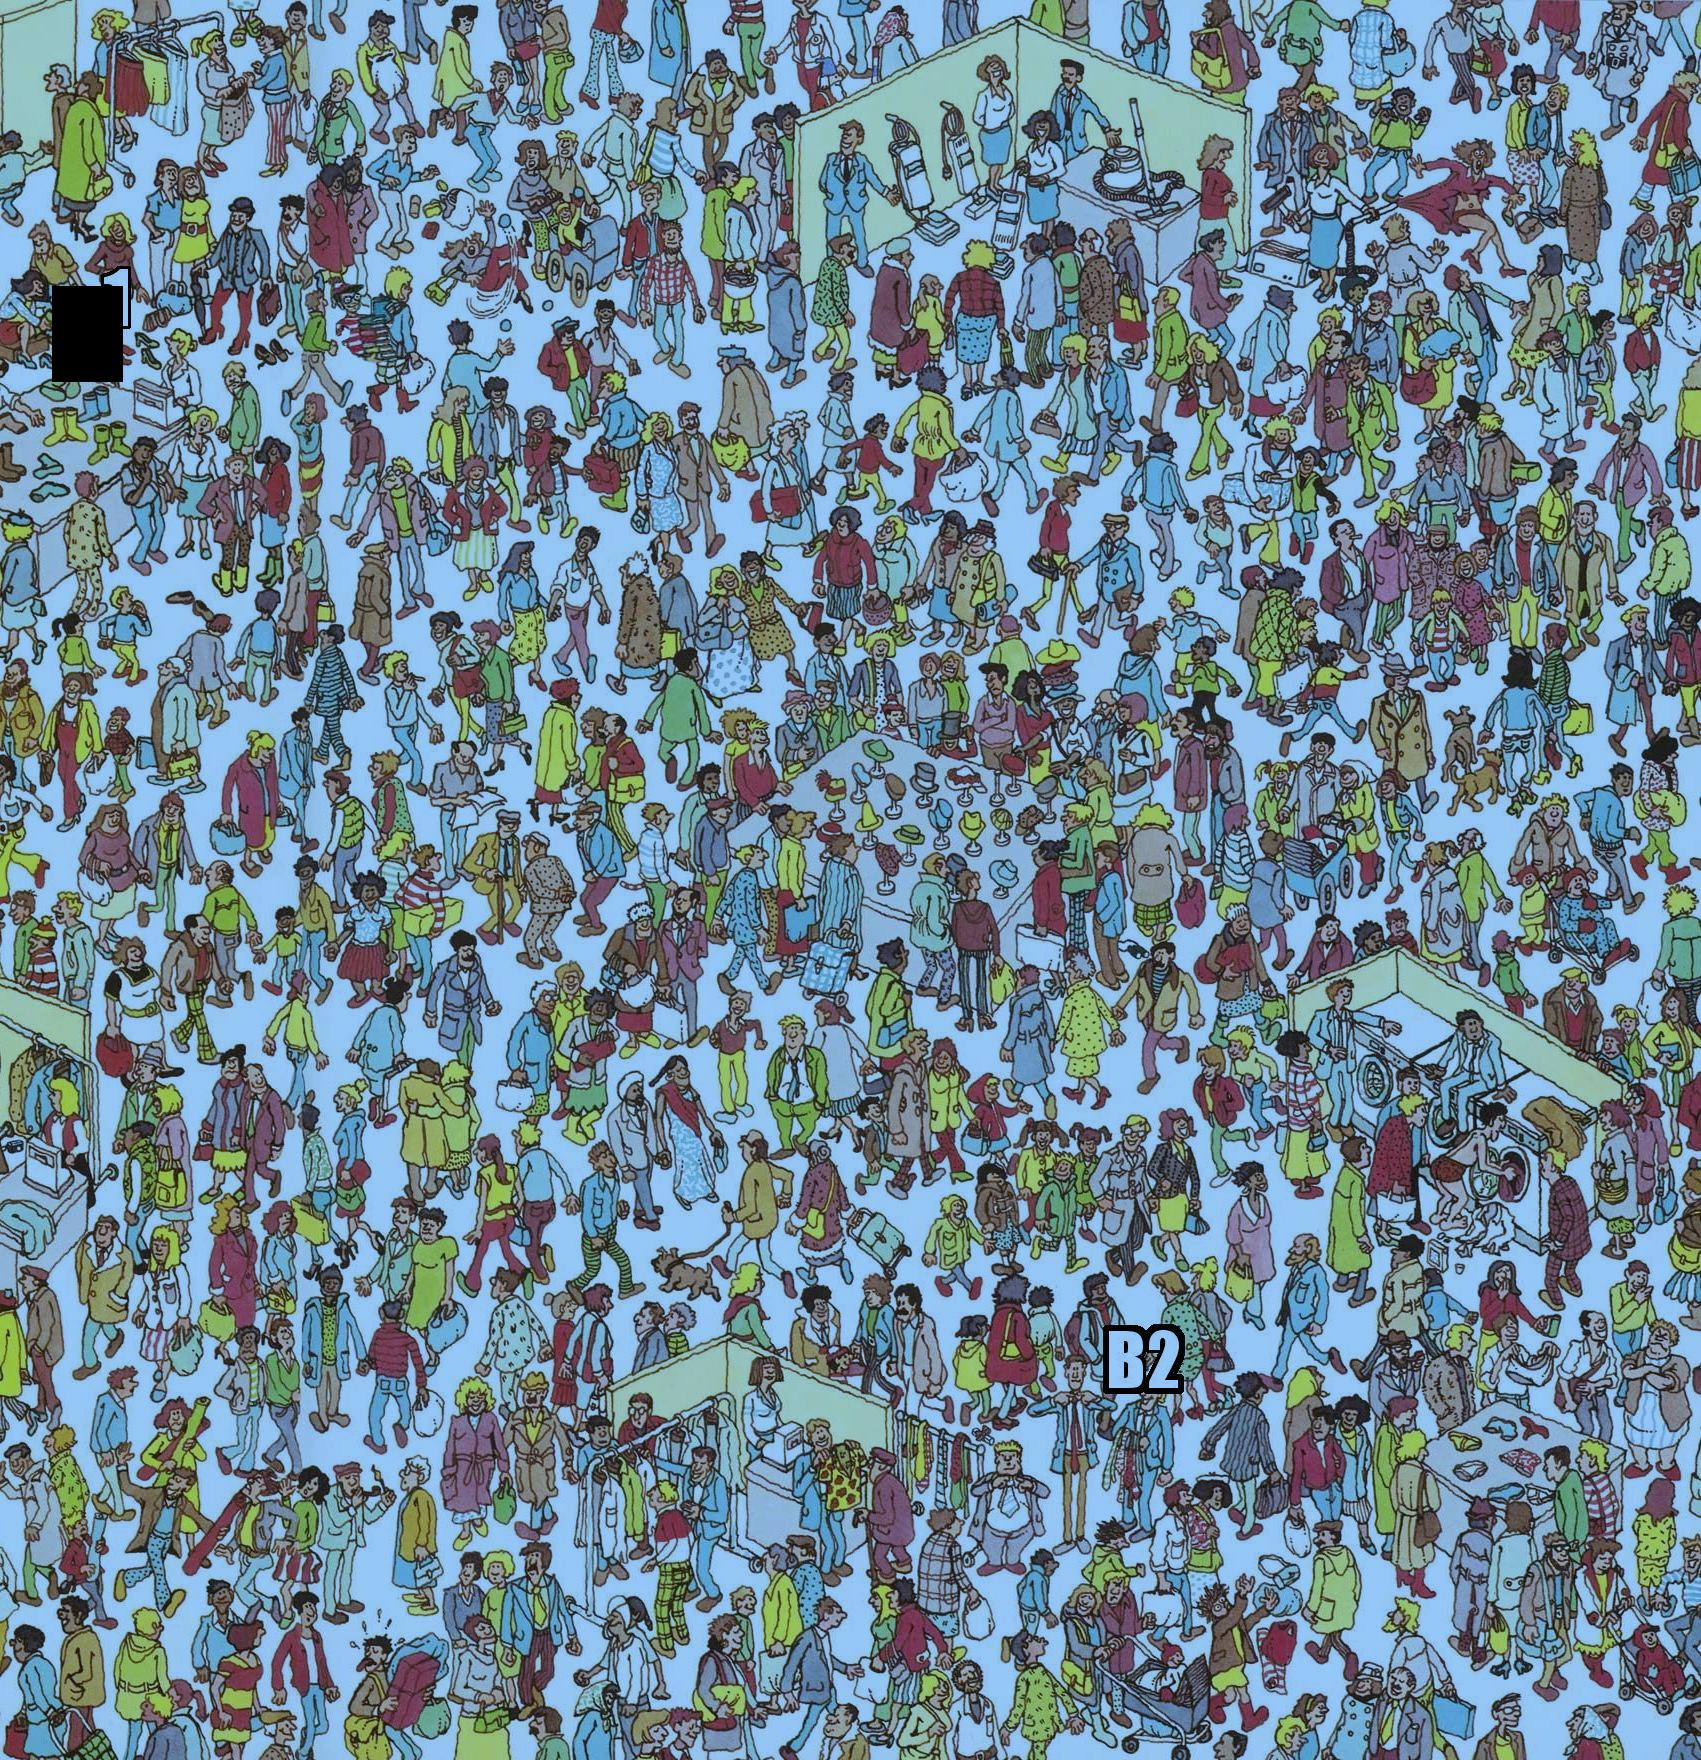waldos: (325, 270, 398, 368)
